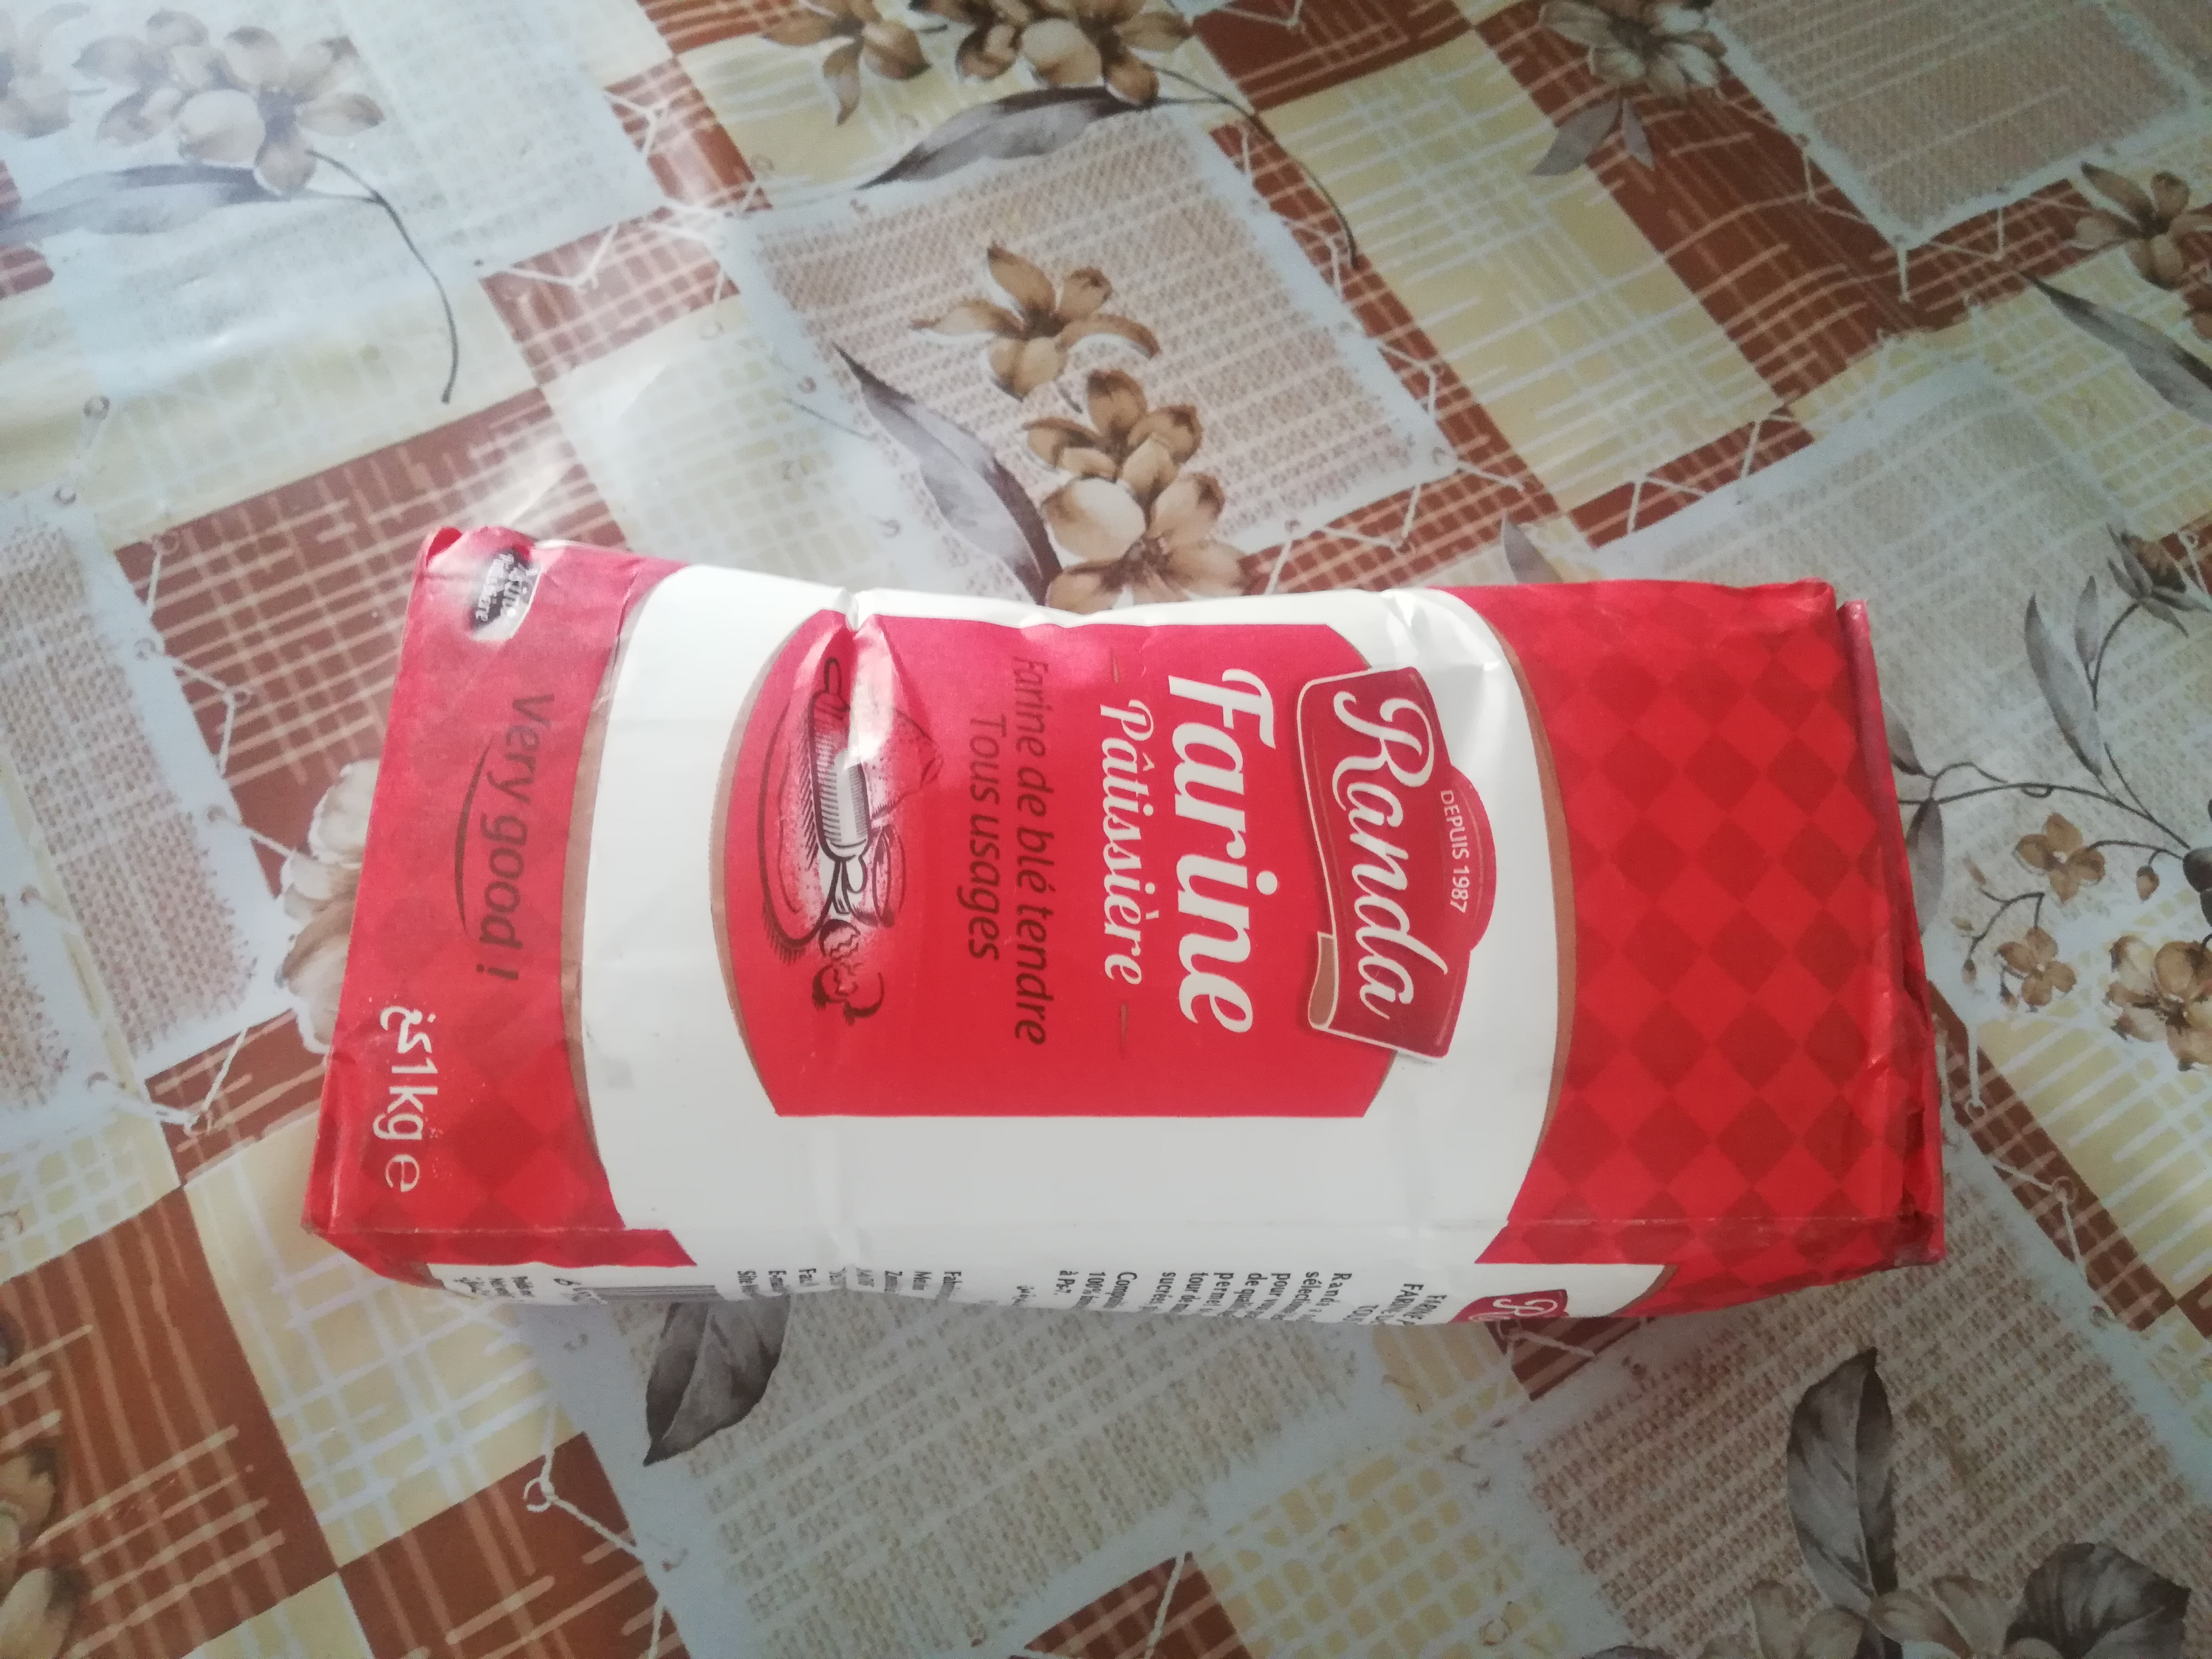Farine Randa: (298, 523, 1952, 1331)
